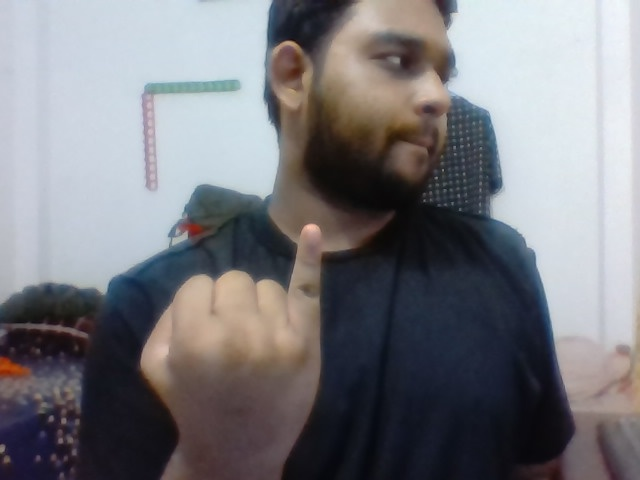I: (137, 216, 344, 453)
